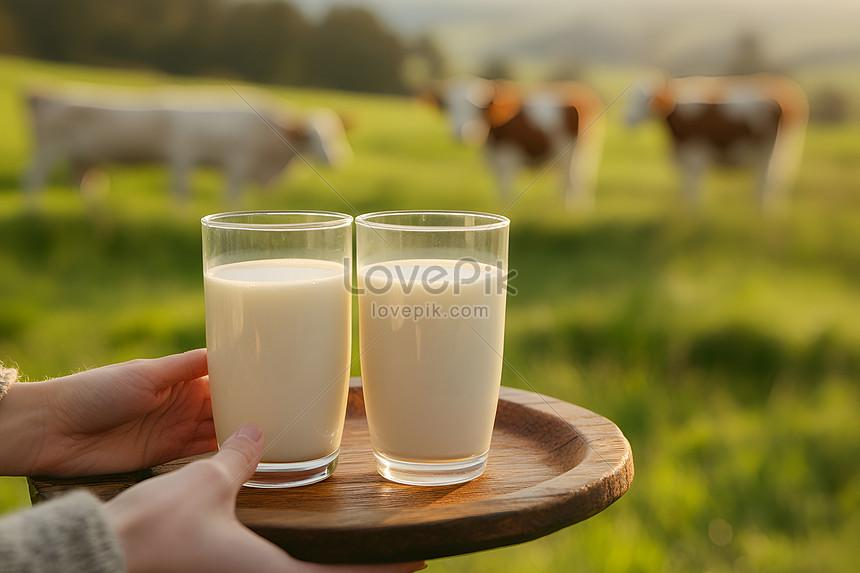produk_susu: (223, 262, 323, 416)
